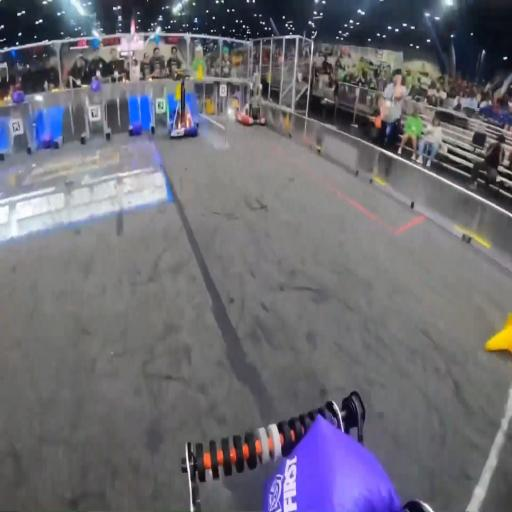robot: (167, 66, 199, 140), (235, 74, 267, 126)
